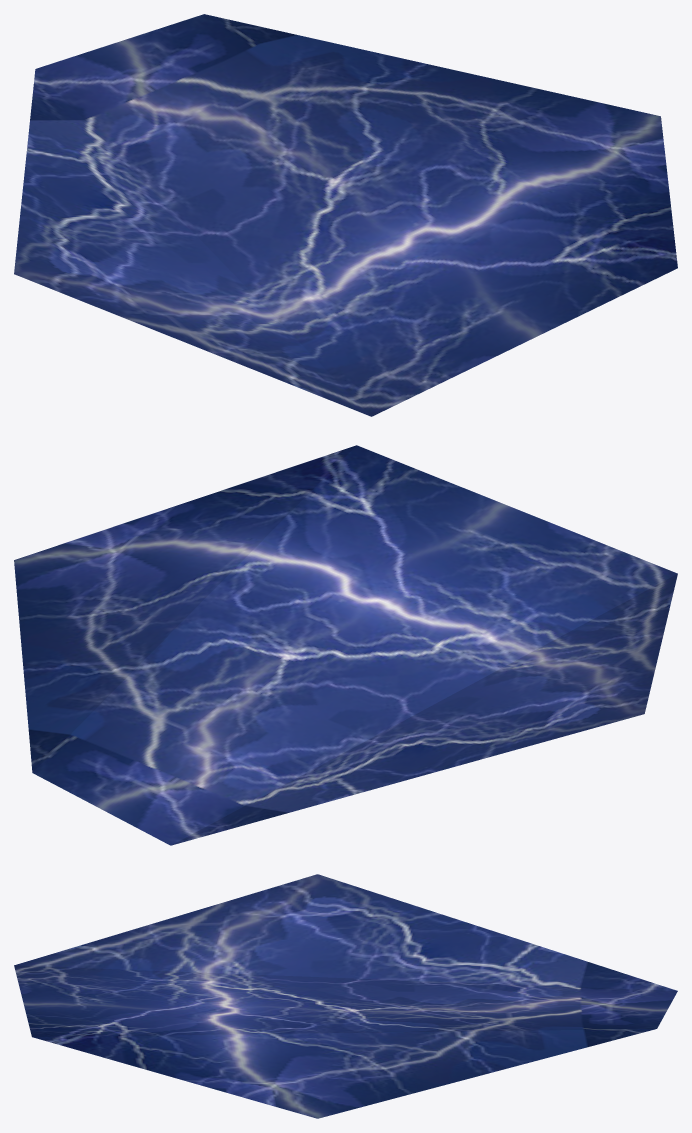
File: tempel_manaBath_GEO_01.fbx
The picture shows the model from 3 angles, top to bottom: view 1: azimuth 30°, elevation 25°; view 2: azimuth 150°, elevation 25°; view 3: azimuth 270°, elevation 25°; orthographic projection. The views are drawn at different scales.
Visible parts, largest first — view 1: temple_mana_field_GEO_01; view 2: temple_mana_field_GEO_01; view 3: temple_mana_field_GEO_01.
Boxes of the visible parts, x1=… form: temple_mana_field_GEO_01: x1=14, y1=14, x2=677, y2=416; temple_mana_field_GEO_01: x1=14, y1=445, x2=677, y2=845; temple_mana_field_GEO_01: x1=14, y1=874, x2=677, y2=1118.
Bounding box in the file's own units: 1.13 × 0.1044 × 1.29.
1 material, 1 textured.
